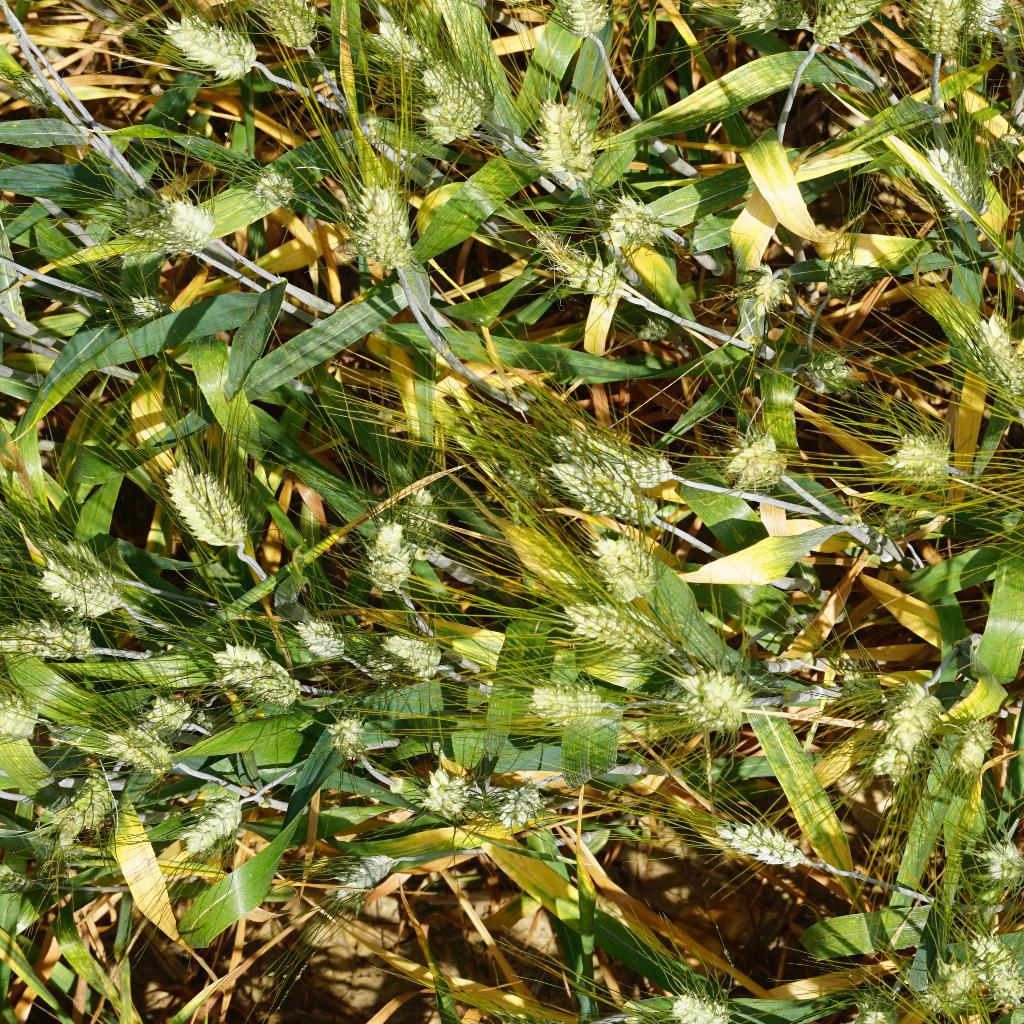0-0: (23, 531, 144, 626), (541, 456, 675, 535), (167, 452, 256, 568), (522, 223, 635, 314), (189, 621, 299, 714), (331, 167, 421, 271), (544, 595, 665, 672), (557, 423, 690, 493), (163, 3, 262, 97), (877, 668, 942, 800), (511, 675, 630, 743), (174, 773, 256, 864), (531, 88, 600, 191), (411, 56, 490, 145), (127, 194, 224, 266), (714, 423, 811, 494), (720, 811, 815, 882), (352, 499, 419, 598), (575, 527, 669, 597), (927, 146, 998, 234), (675, 651, 751, 732), (956, 310, 1024, 397), (587, 187, 661, 265), (400, 757, 475, 832), (329, 837, 396, 918), (271, 612, 357, 675), (942, 703, 998, 798), (51, 769, 119, 844), (867, 422, 949, 484), (0, 621, 100, 671), (803, 0, 888, 58), (373, 630, 458, 686), (489, 447, 560, 511), (247, 0, 324, 59), (105, 714, 172, 780), (376, 501, 464, 550), (651, 972, 732, 1024), (313, 702, 376, 768), (962, 836, 1024, 903), (520, 0, 612, 45), (813, 247, 884, 305), (978, 929, 1024, 1016), (804, 336, 870, 396), (355, 0, 413, 68), (742, 256, 793, 331), (485, 774, 546, 836), (137, 686, 205, 739), (712, 0, 796, 41), (905, 0, 967, 55), (250, 152, 298, 220), (830, 662, 887, 715), (927, 949, 971, 1015), (0, 695, 55, 744), (117, 286, 178, 330), (960, 0, 1018, 38), (627, 311, 674, 346), (874, 505, 917, 541)
